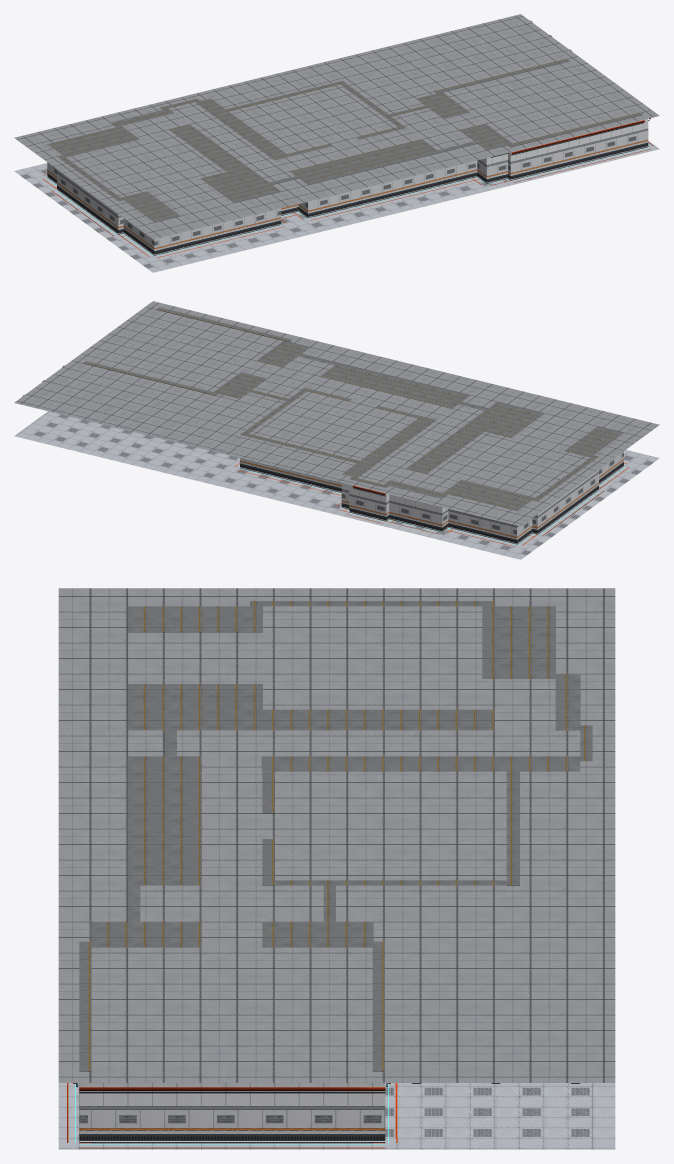
Rendered from Stage1Visual.fbx.
3 renders of one model, top to bottom at view 1: azimuth 30°, elevation 25°; view 2: azimuth 150°, elevation 25°; view 3: azimuth 270°, elevation 25°, orthographic. The views are drawn at different scales.
Visible parts, largest first — view 1: Ceiling, Top, Wall, Floor, FloorLine_Orange, LED_Blue; view 2: Ceiling, Top, Floor, Wall, FloorLine_Orange; view 3: Ceiling, Top, Floor, Wall, Pipe_Orange, Pipe_Gray, FloorLine_Orange.
Boxes of the visible parts, left/top/right/bottom form: Ceiling: left=14, top=14, right=659, bottom=239; Top: left=48, top=59, right=642, bottom=222; Wall: left=47, top=61, right=648, bottom=255; Floor: left=14, top=141, right=659, bottom=272; FloorLine_Orange: left=42, top=142, right=652, bottom=257; LED_Blue: left=47, top=146, right=647, bottom=254; Ceiling: left=14, top=301, right=659, bottom=526; Top: left=83, top=307, right=623, bottom=510; Floor: left=14, top=411, right=659, bottom=559; Wall: left=83, top=310, right=623, bottom=544; FloorLine_Orange: left=235, top=463, right=628, bottom=546; Ceiling: left=58, top=588, right=615, bottom=1082; Top: left=79, top=601, right=592, bottom=1071; Floor: left=58, top=1083, right=615, bottom=1149; Wall: left=79, top=632, right=519, bottom=1143; Pipe_Orange: left=73, top=1083, right=390, bottom=1090; Pipe_Gray: left=76, top=1083, right=387, bottom=1093; FloorLine_Orange: left=67, top=1083, right=397, bottom=1148.
Size of the model in its own units: 9589 by 648 by 4551.
